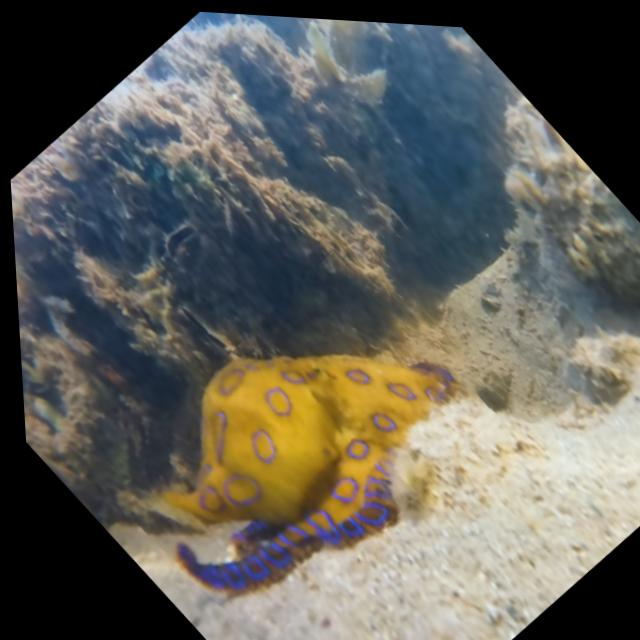blue_ringed_octopus: (72, 231, 510, 640)
